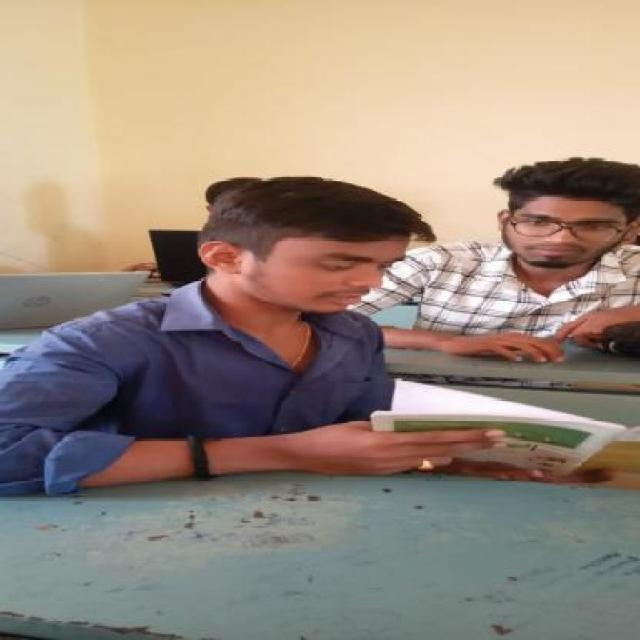cheating: (5, 160, 640, 508), (473, 145, 640, 370)
